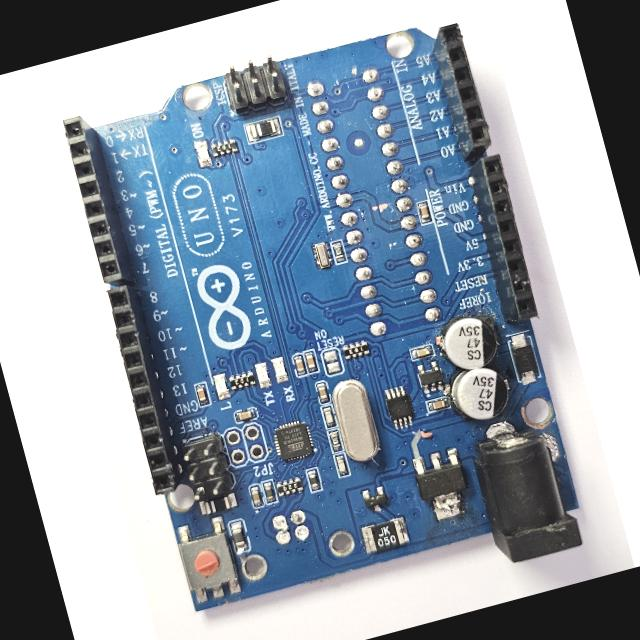missing_atmega: (300, 60, 448, 342)
missing_usb: (242, 486, 363, 593)
